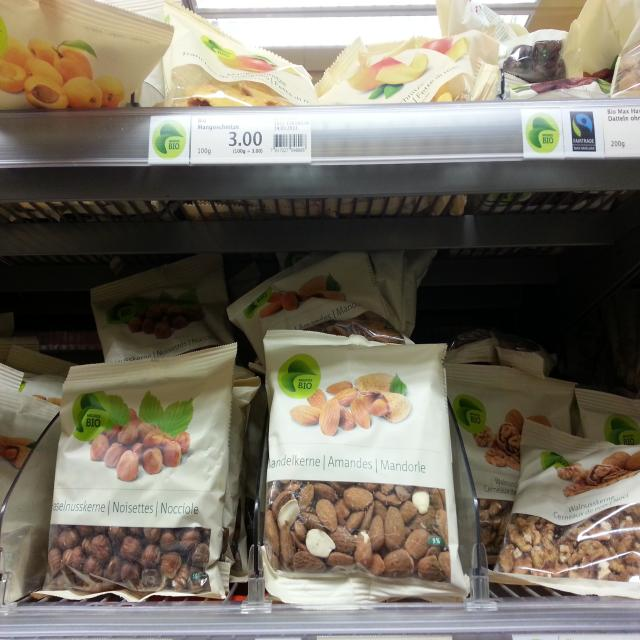DriedFruitsAndNuts: (263, 329, 468, 602), (38, 340, 236, 601), (490, 415, 640, 598)
